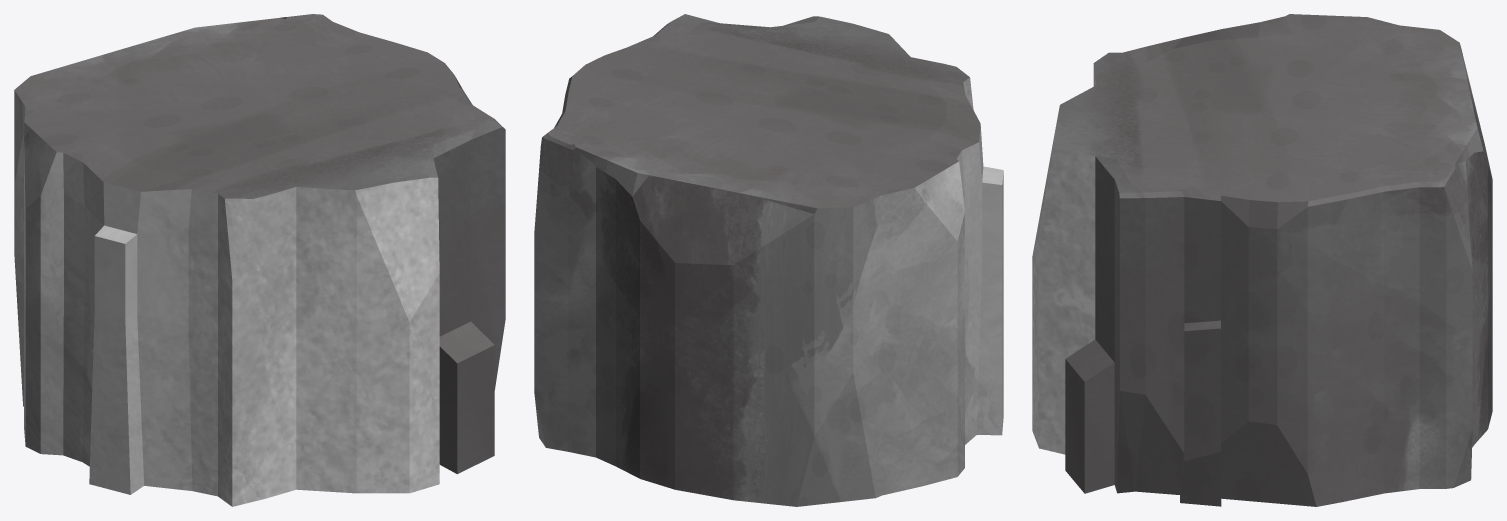
Rendered from rockPlatform.fbx.
3 renders of one model, left to right at view 1: azimuth 30°, elevation 25°; view 2: azimuth 150°, elevation 25°; view 3: azimuth 270°, elevation 25°, orthographic.
Parts seen in each view (by area): view 1: Cube; view 2: Cube; view 3: Cube.
Boxes of the visible parts, x1,y1,x2,y2 form: Cube: (14,14,505,506); Cube: (534,14,1003,506); Cube: (1032,14,1492,506).
Bounding box in the file's own units: 1701 × 1255 × 1668.
